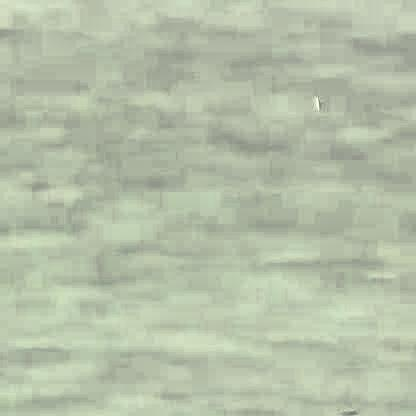golfball: (308, 87, 319, 109)
